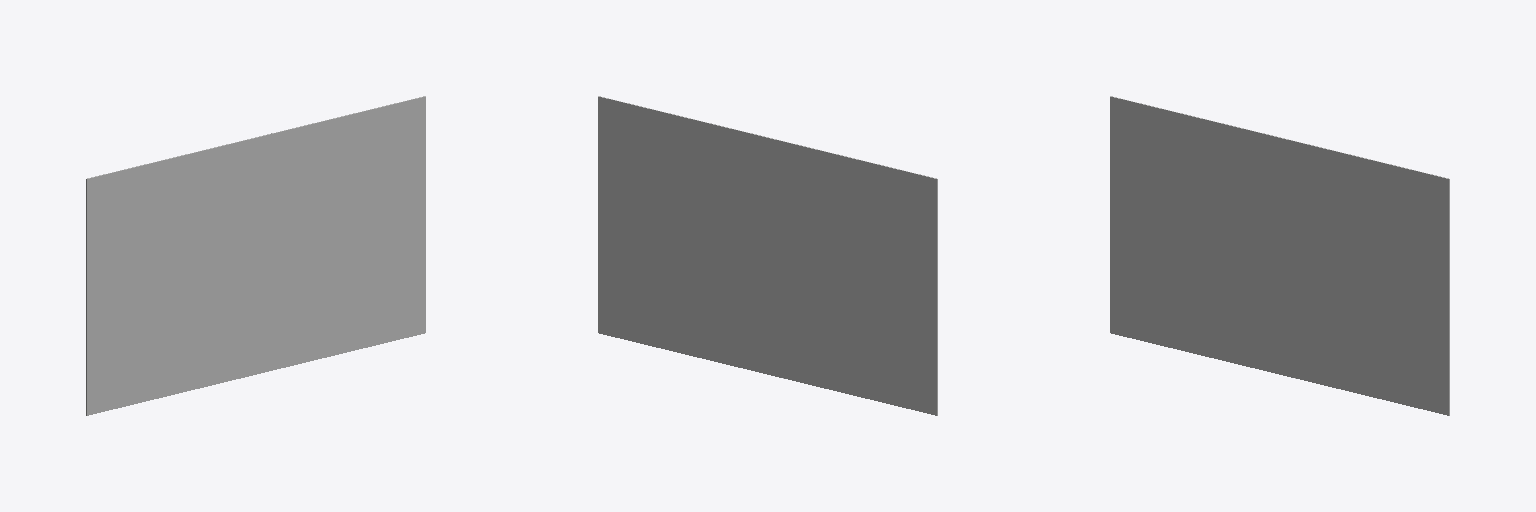
Rendered from recipeOne.obj.
3 renders of one model, left to right at view 1: azimuth 30°, elevation 25°; view 2: azimuth 150°, elevation 25°; view 3: azimuth 330°, elevation 25°, orthographic.
Visible parts, largest first — view 1: pCube1; view 2: pCube1; view 3: pCube1.
Part boxes in pixels (x1,y1,x2,y2): pCube1: (86, 96, 425, 415); pCube1: (598, 96, 937, 415); pCube1: (1110, 96, 1449, 415).
Bounding box in the file's own units: 30 × 20 × 0.1.